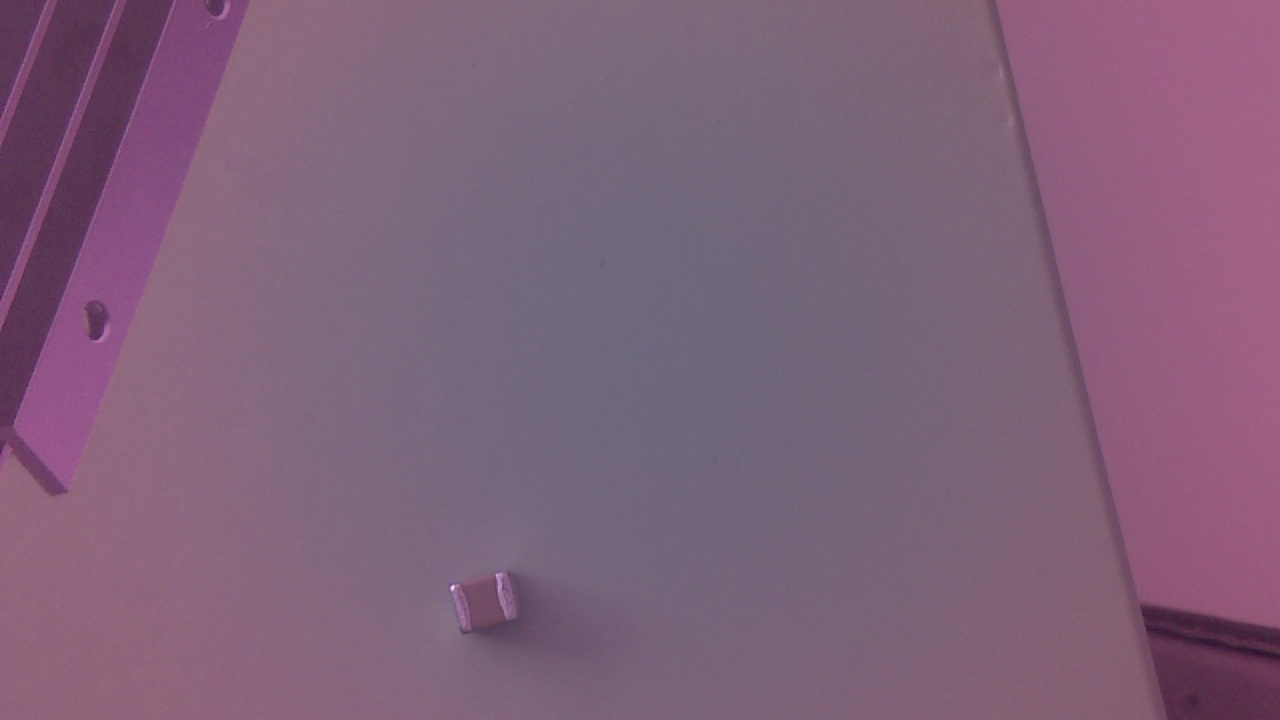Condensator: (446, 570, 533, 644)
